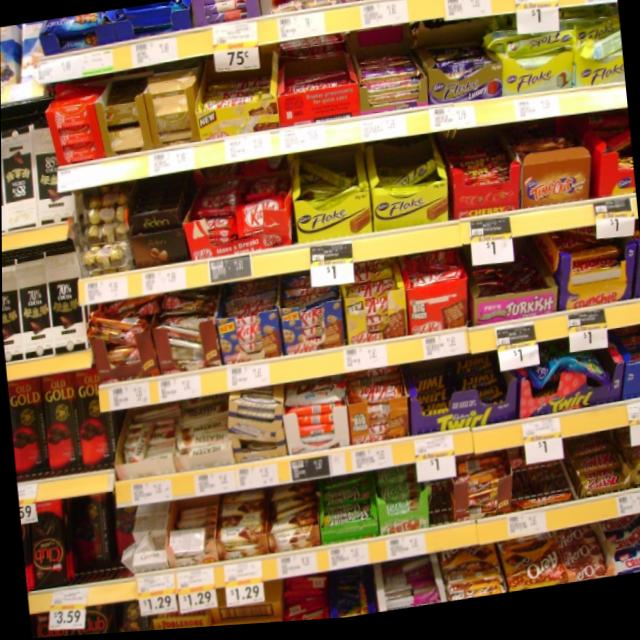q19: (234, 200, 281, 243)
q52: (40, 262, 87, 357), (16, 260, 53, 363), (2, 262, 25, 359)
